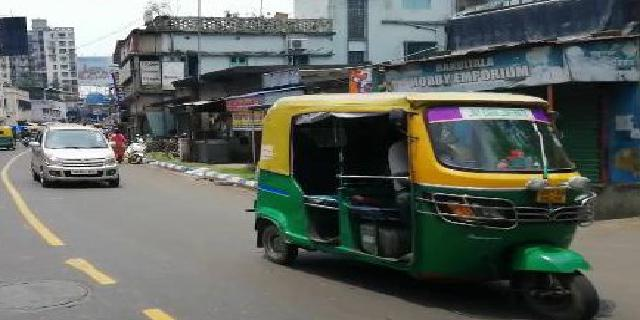Autorickshaw: (244, 85, 615, 320)
Car: (28, 122, 121, 191)
